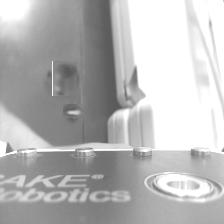Door Handle: (49, 63, 80, 94)
Lock: (64, 102, 82, 120)
